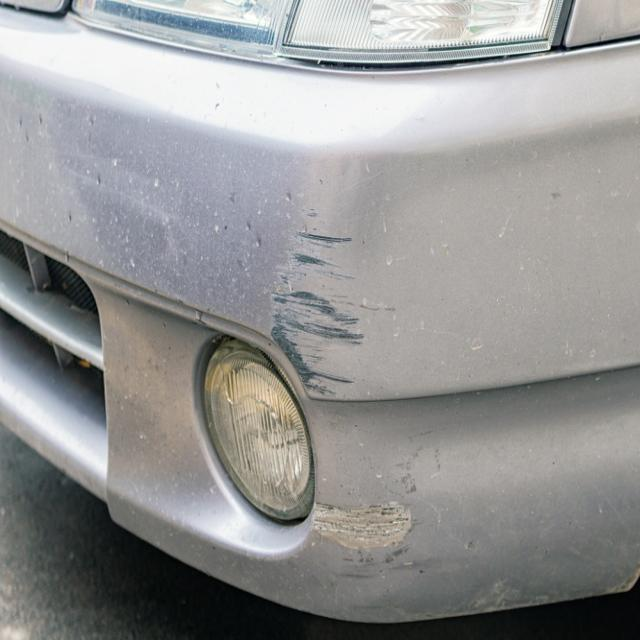scratch: (271, 214, 364, 401), (313, 498, 415, 582)
